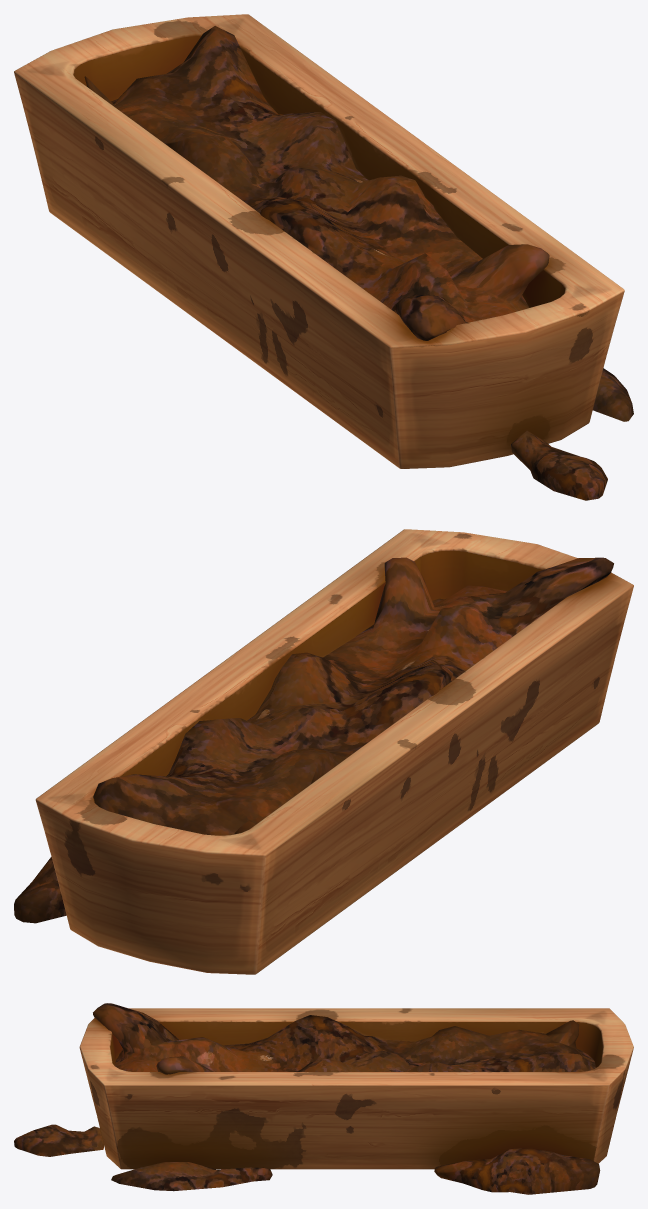
The model's file is Feeder02.FBX.
The picture shows the model from 3 angles, top to bottom: view 1: azimuth 30°, elevation 25°; view 2: azimuth 150°, elevation 25°; view 3: azimuth 270°, elevation 25°; orthographic projection. The views are drawn at different scales.
Visible parts, largest first — view 1: Feeder02; view 2: Feeder02; view 3: Feeder02.
Boxes of the visible parts, bbox=[...] form: Feeder02: bbox=[14, 14, 633, 500]; Feeder02: bbox=[14, 529, 633, 974]; Feeder02: bbox=[14, 1003, 633, 1194].
Size of what is drawn, in the model's own units: 0.8081 by 0.4273 by 2.24.
